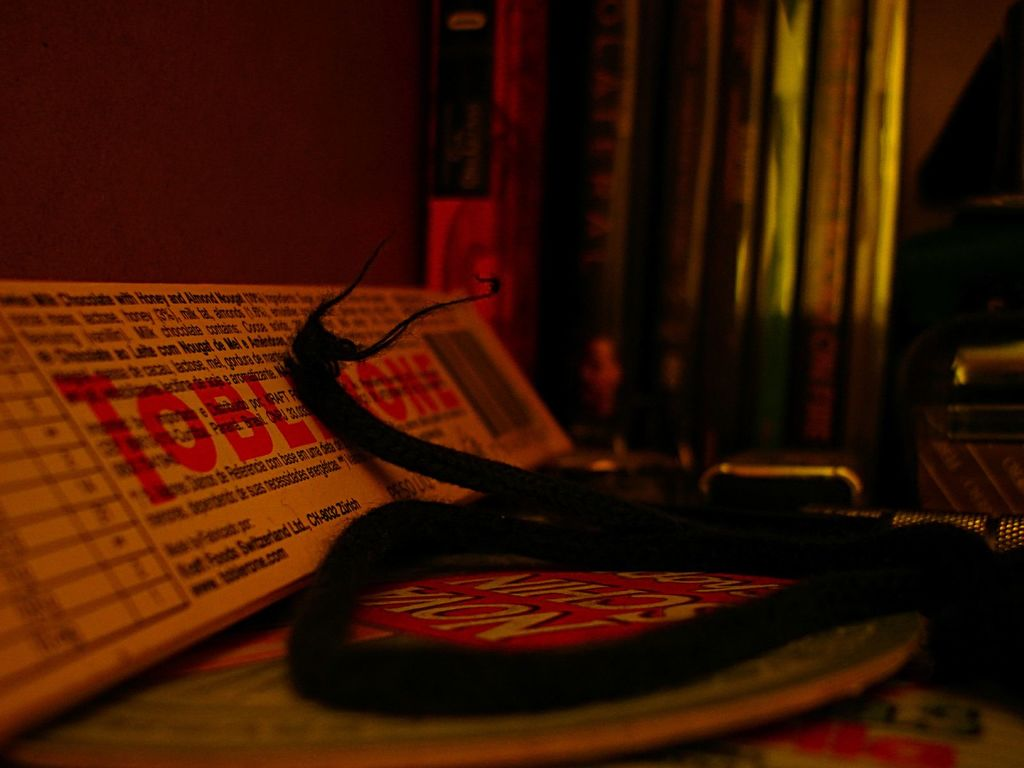Book: (429, 0, 883, 468)
